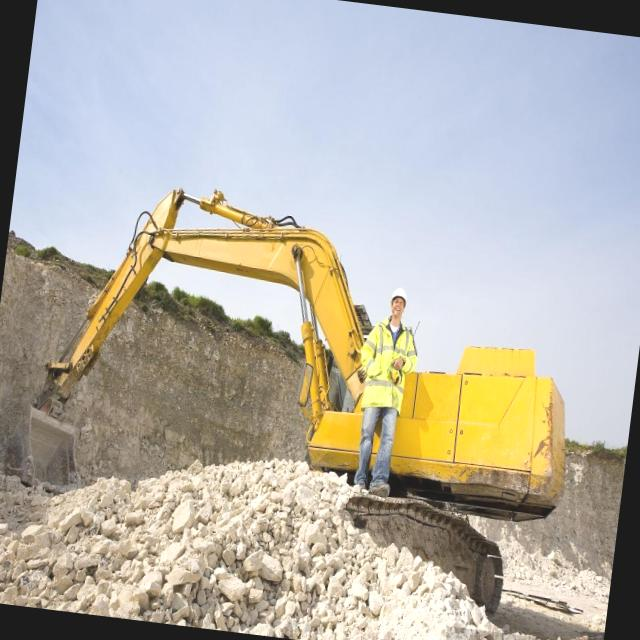helmet: (388, 284, 413, 316)
vest: (350, 314, 422, 422)
